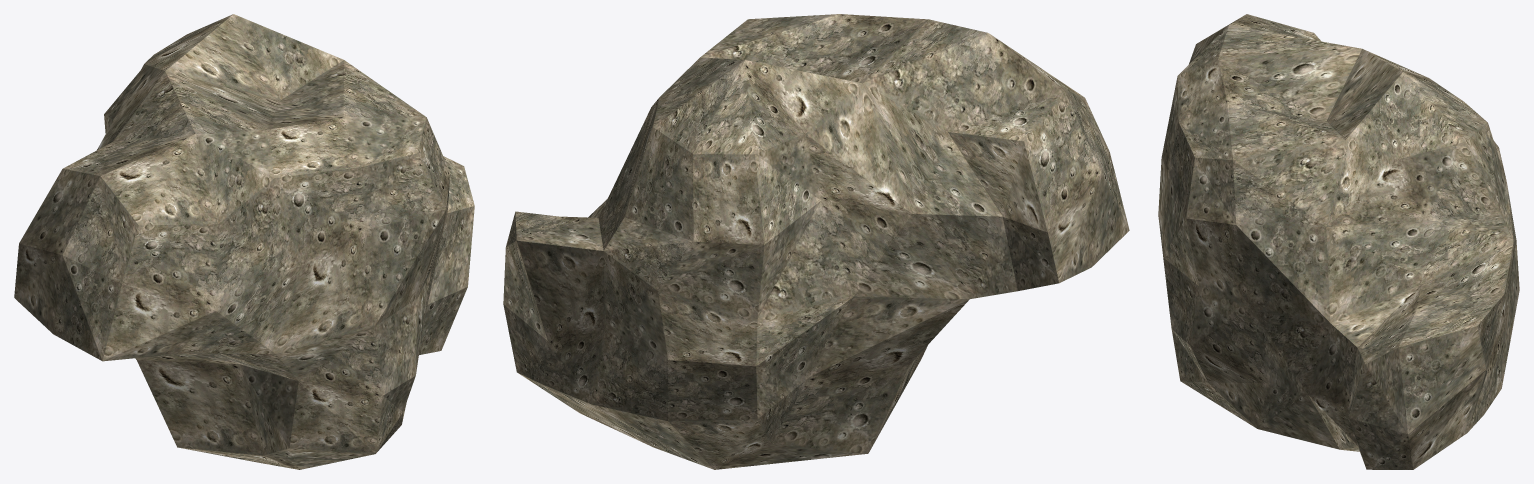
Rendered from asteroid_all_large_01_l1.fbx.
3 renders of one model, left to right at view 1: azimuth 30°, elevation 25°; view 2: azimuth 150°, elevation 25°; view 3: azimuth 270°, elevation 25°, orthographic. The views are drawn at different scales.
Parts seen in each view (by area): view 1: mesh_node; view 2: mesh_node; view 3: mesh_node.
Part boxes in pixels (<box>): mesh_node: <box>14,14,474,469</box>; mesh_node: <box>503,14,1129,469</box>; mesh_node: <box>1158,14,1519,469</box>.
Size of the model in its own units: 144 by 117 by 106.
